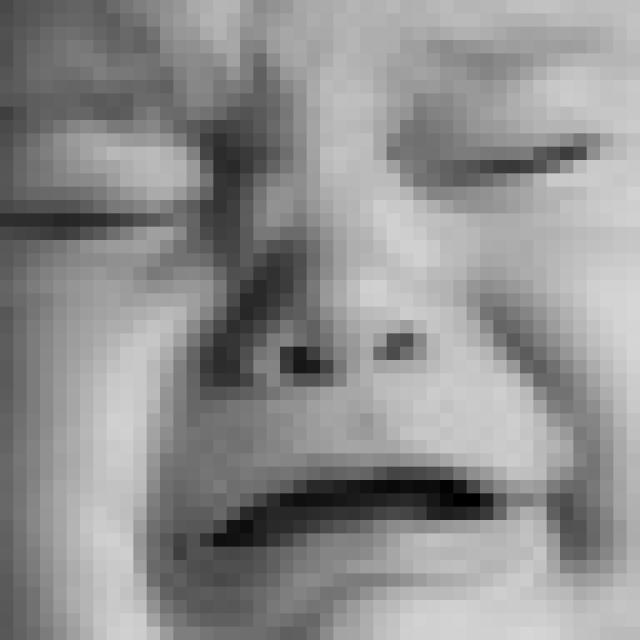sad: (1, 18, 640, 610)
